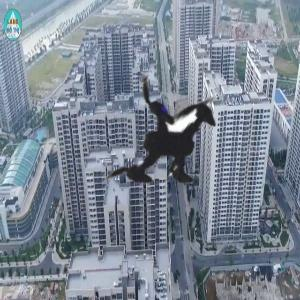drone: (56, 31, 294, 269)
